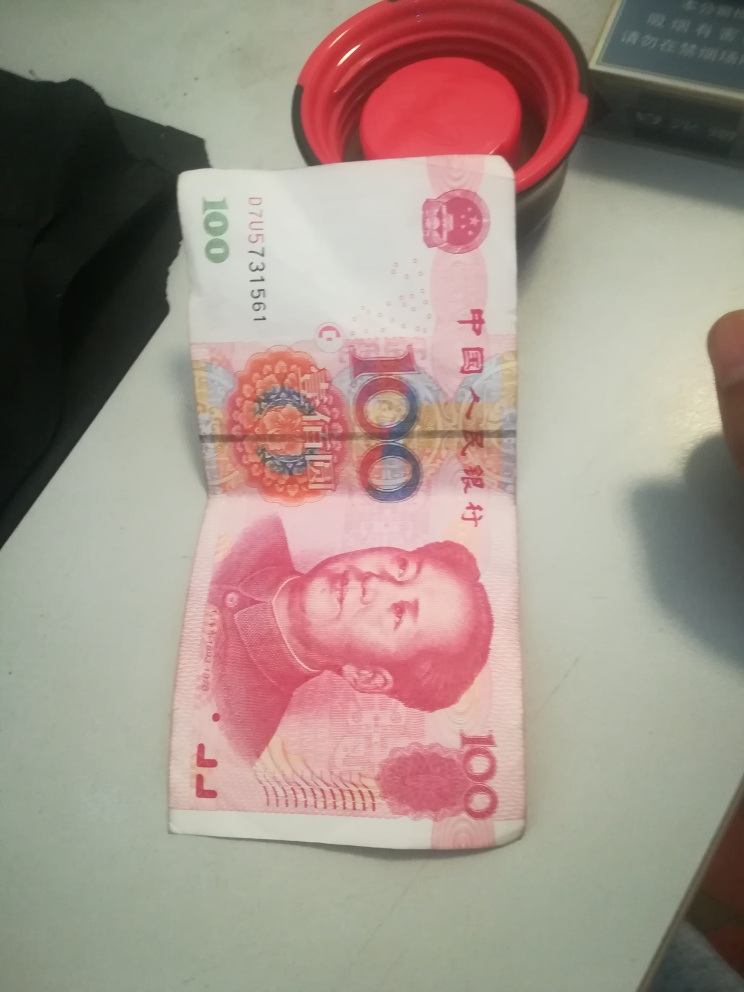rmb: (165, 149, 535, 858)
